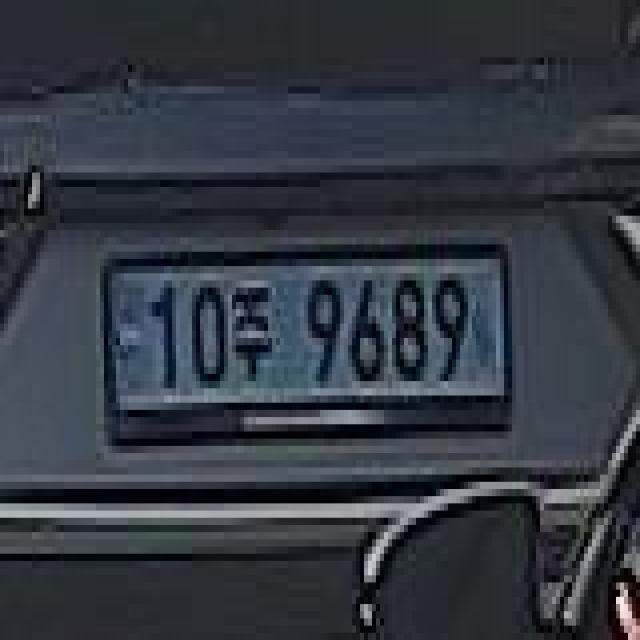EV_plate: (94, 232, 520, 447)
